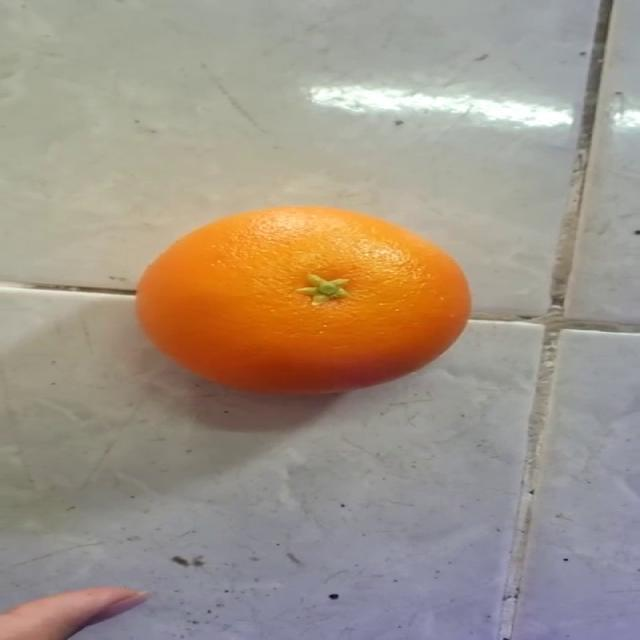Orange: (134, 203, 472, 396)
